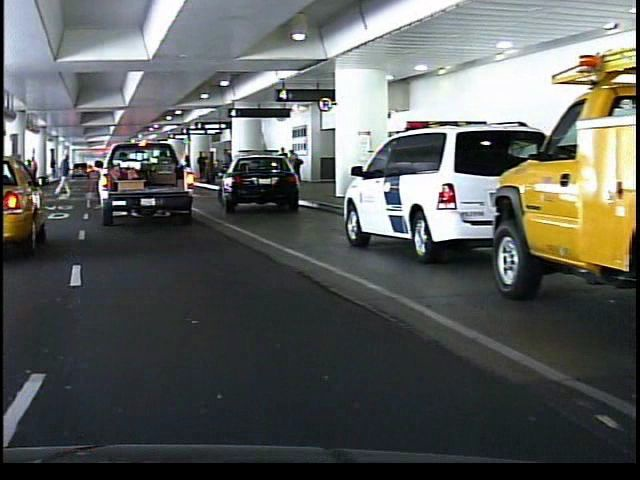person: (54, 151, 71, 199)
